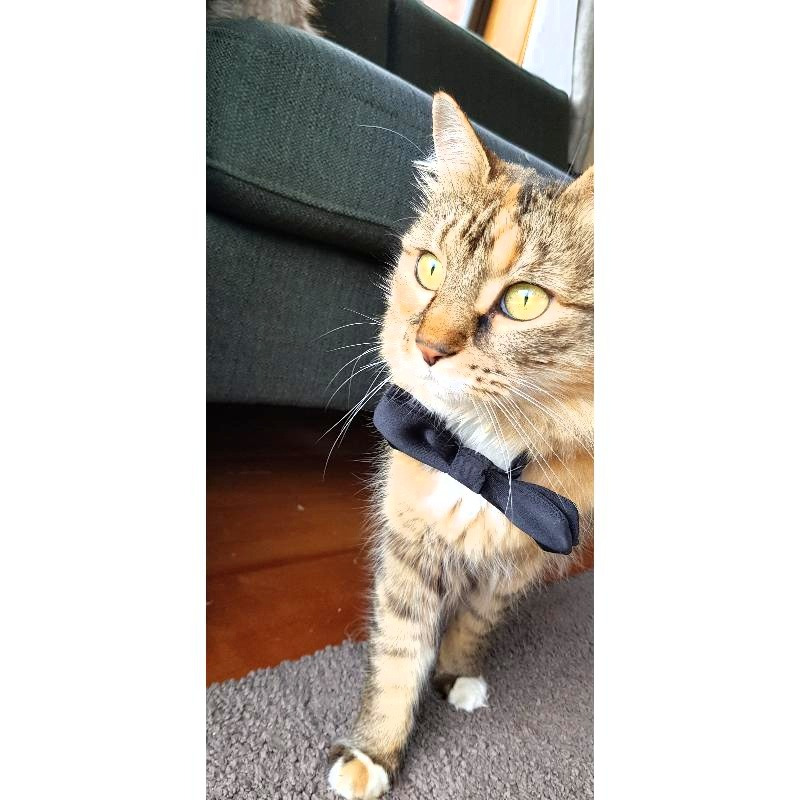yellow: (326, 86, 594, 800)
